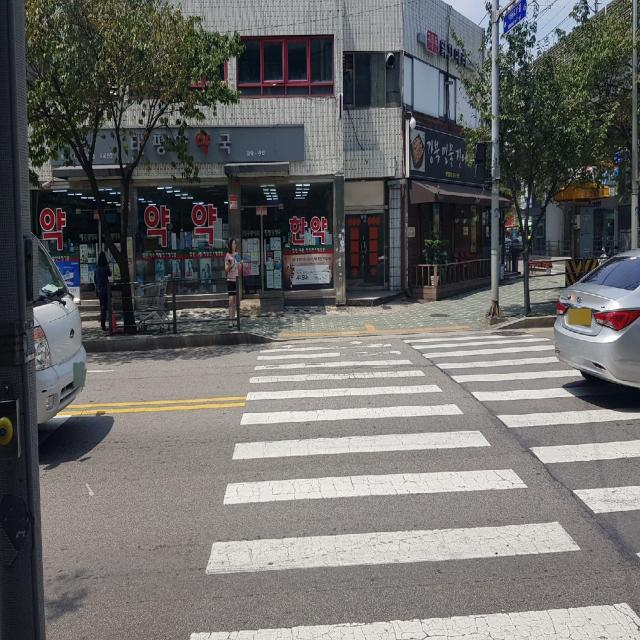횡단보도: (190, 337, 638, 640)
